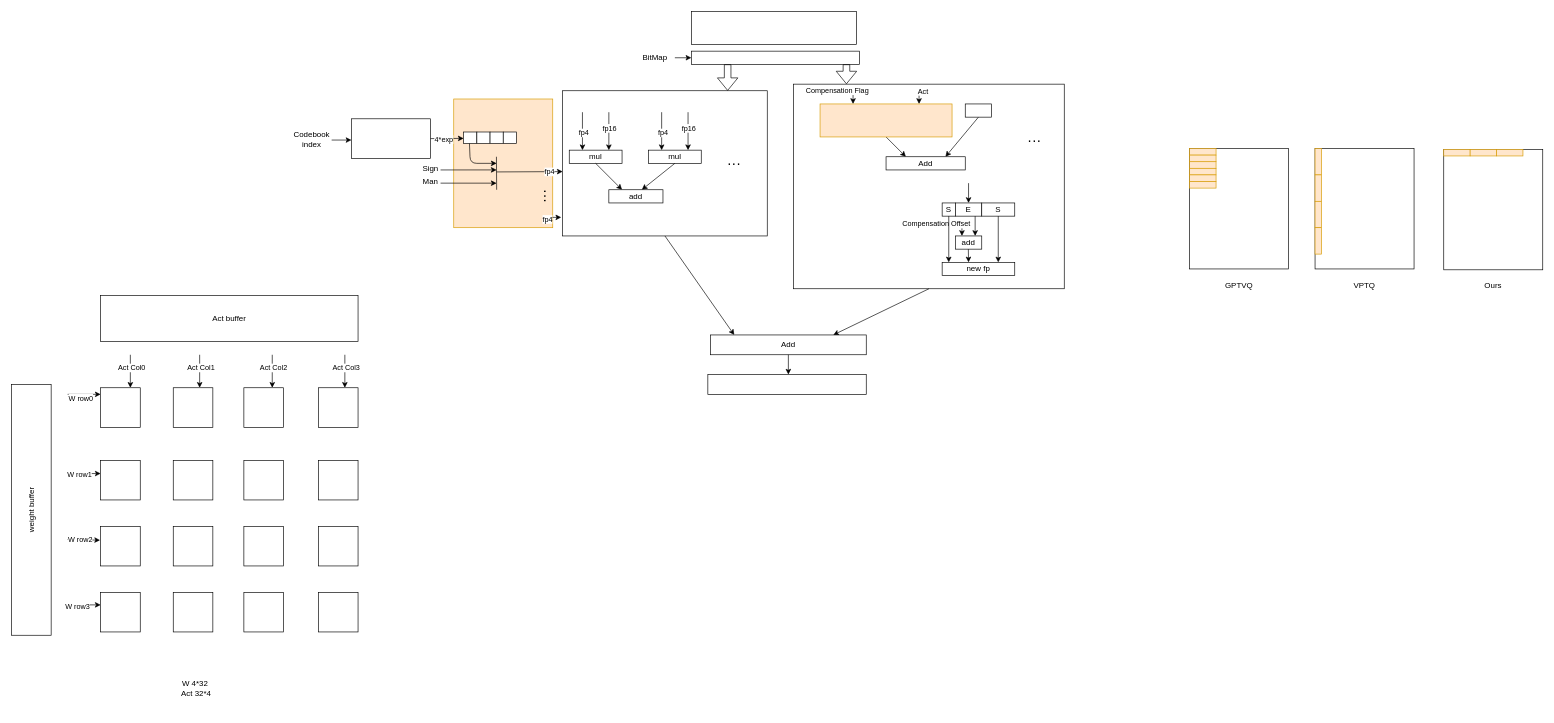
Some shapes in this 1554 by 723 pixel diagram are drawn without their labels. The centre of each missing label's shape, as x and y in pixels:
Activation Buffer: (x=773, y=28)
case 0: output = 0 case +: ouput = act case -: output = -act(sign = sign ^ 1): (x=885, y=120)
Codebook: (x=391, y=138)
PE: (x=120, y=407)
Selector: (x=775, y=57)
x Scale: (x=786, y=384)
